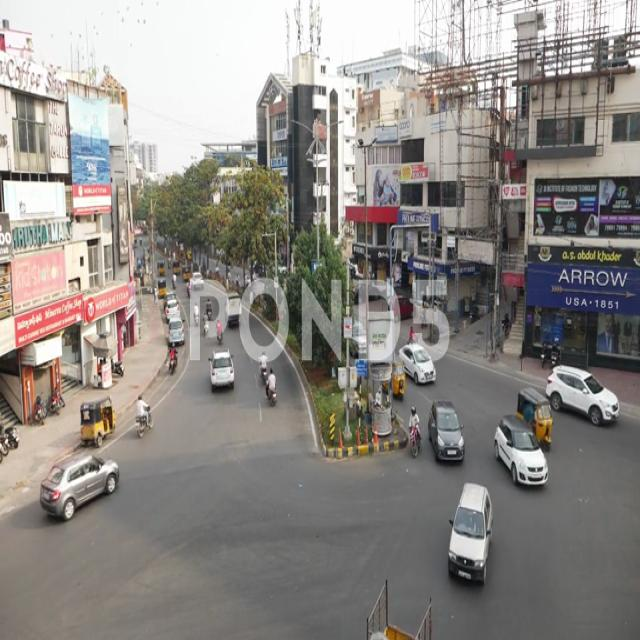car: (40, 451, 120, 522), (493, 416, 555, 507), (549, 361, 621, 437), (447, 484, 493, 584), (429, 401, 466, 466), (400, 344, 442, 393), (206, 349, 238, 394)
motorbike: (135, 393, 154, 438), (268, 368, 278, 409), (257, 351, 268, 380)
rikshaw: (518, 385, 555, 462), (81, 397, 120, 441), (394, 360, 405, 400)
